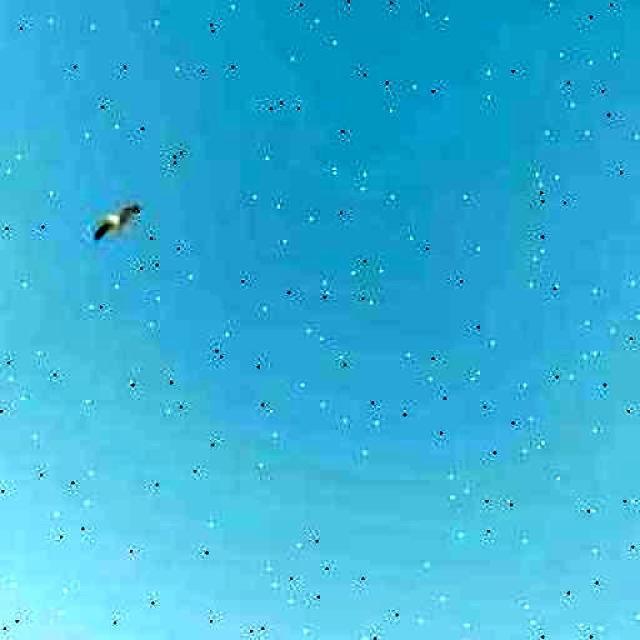airplane: (92, 196, 141, 246)
